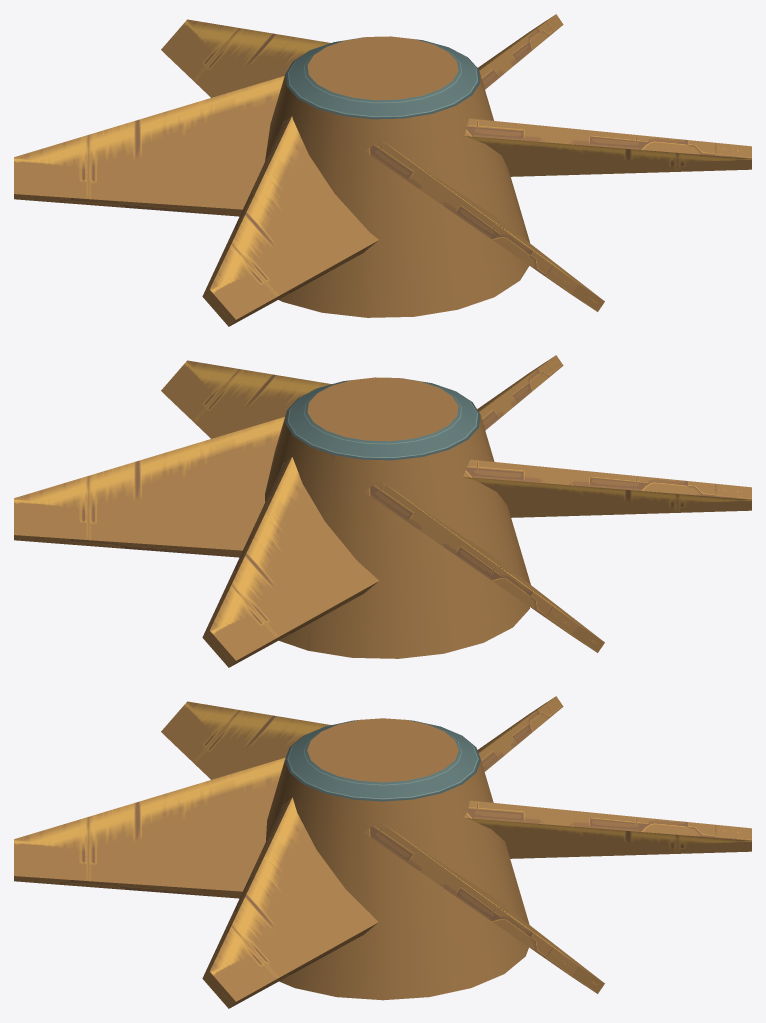
Rendered from LooseRotor.gltf.
3 views of the same model, one above another, from view 1: azimuth 30°, elevation 25°; view 2: azimuth 150°, elevation 25°; view 3: azimuth 270°, elevation 25° (orthographic).
Visible parts, largest first — view 1: Prop_Fan_Small_Propeller; view 2: Prop_Fan_Small_Propeller; view 3: Prop_Fan_Small_Propeller.
Part boxes in pixels (left/top/right/bottom): Prop_Fan_Small_Propeller: left=14, top=14, right=751, bottom=326; Prop_Fan_Small_Propeller: left=14, top=355, right=751, bottom=667; Prop_Fan_Small_Propeller: left=14, top=696, right=751, bottom=1008.
Bounding box in the file's own units: 1.06 × 0.3203 × 1.15.
Materials: 2 (2 with a texture image).
